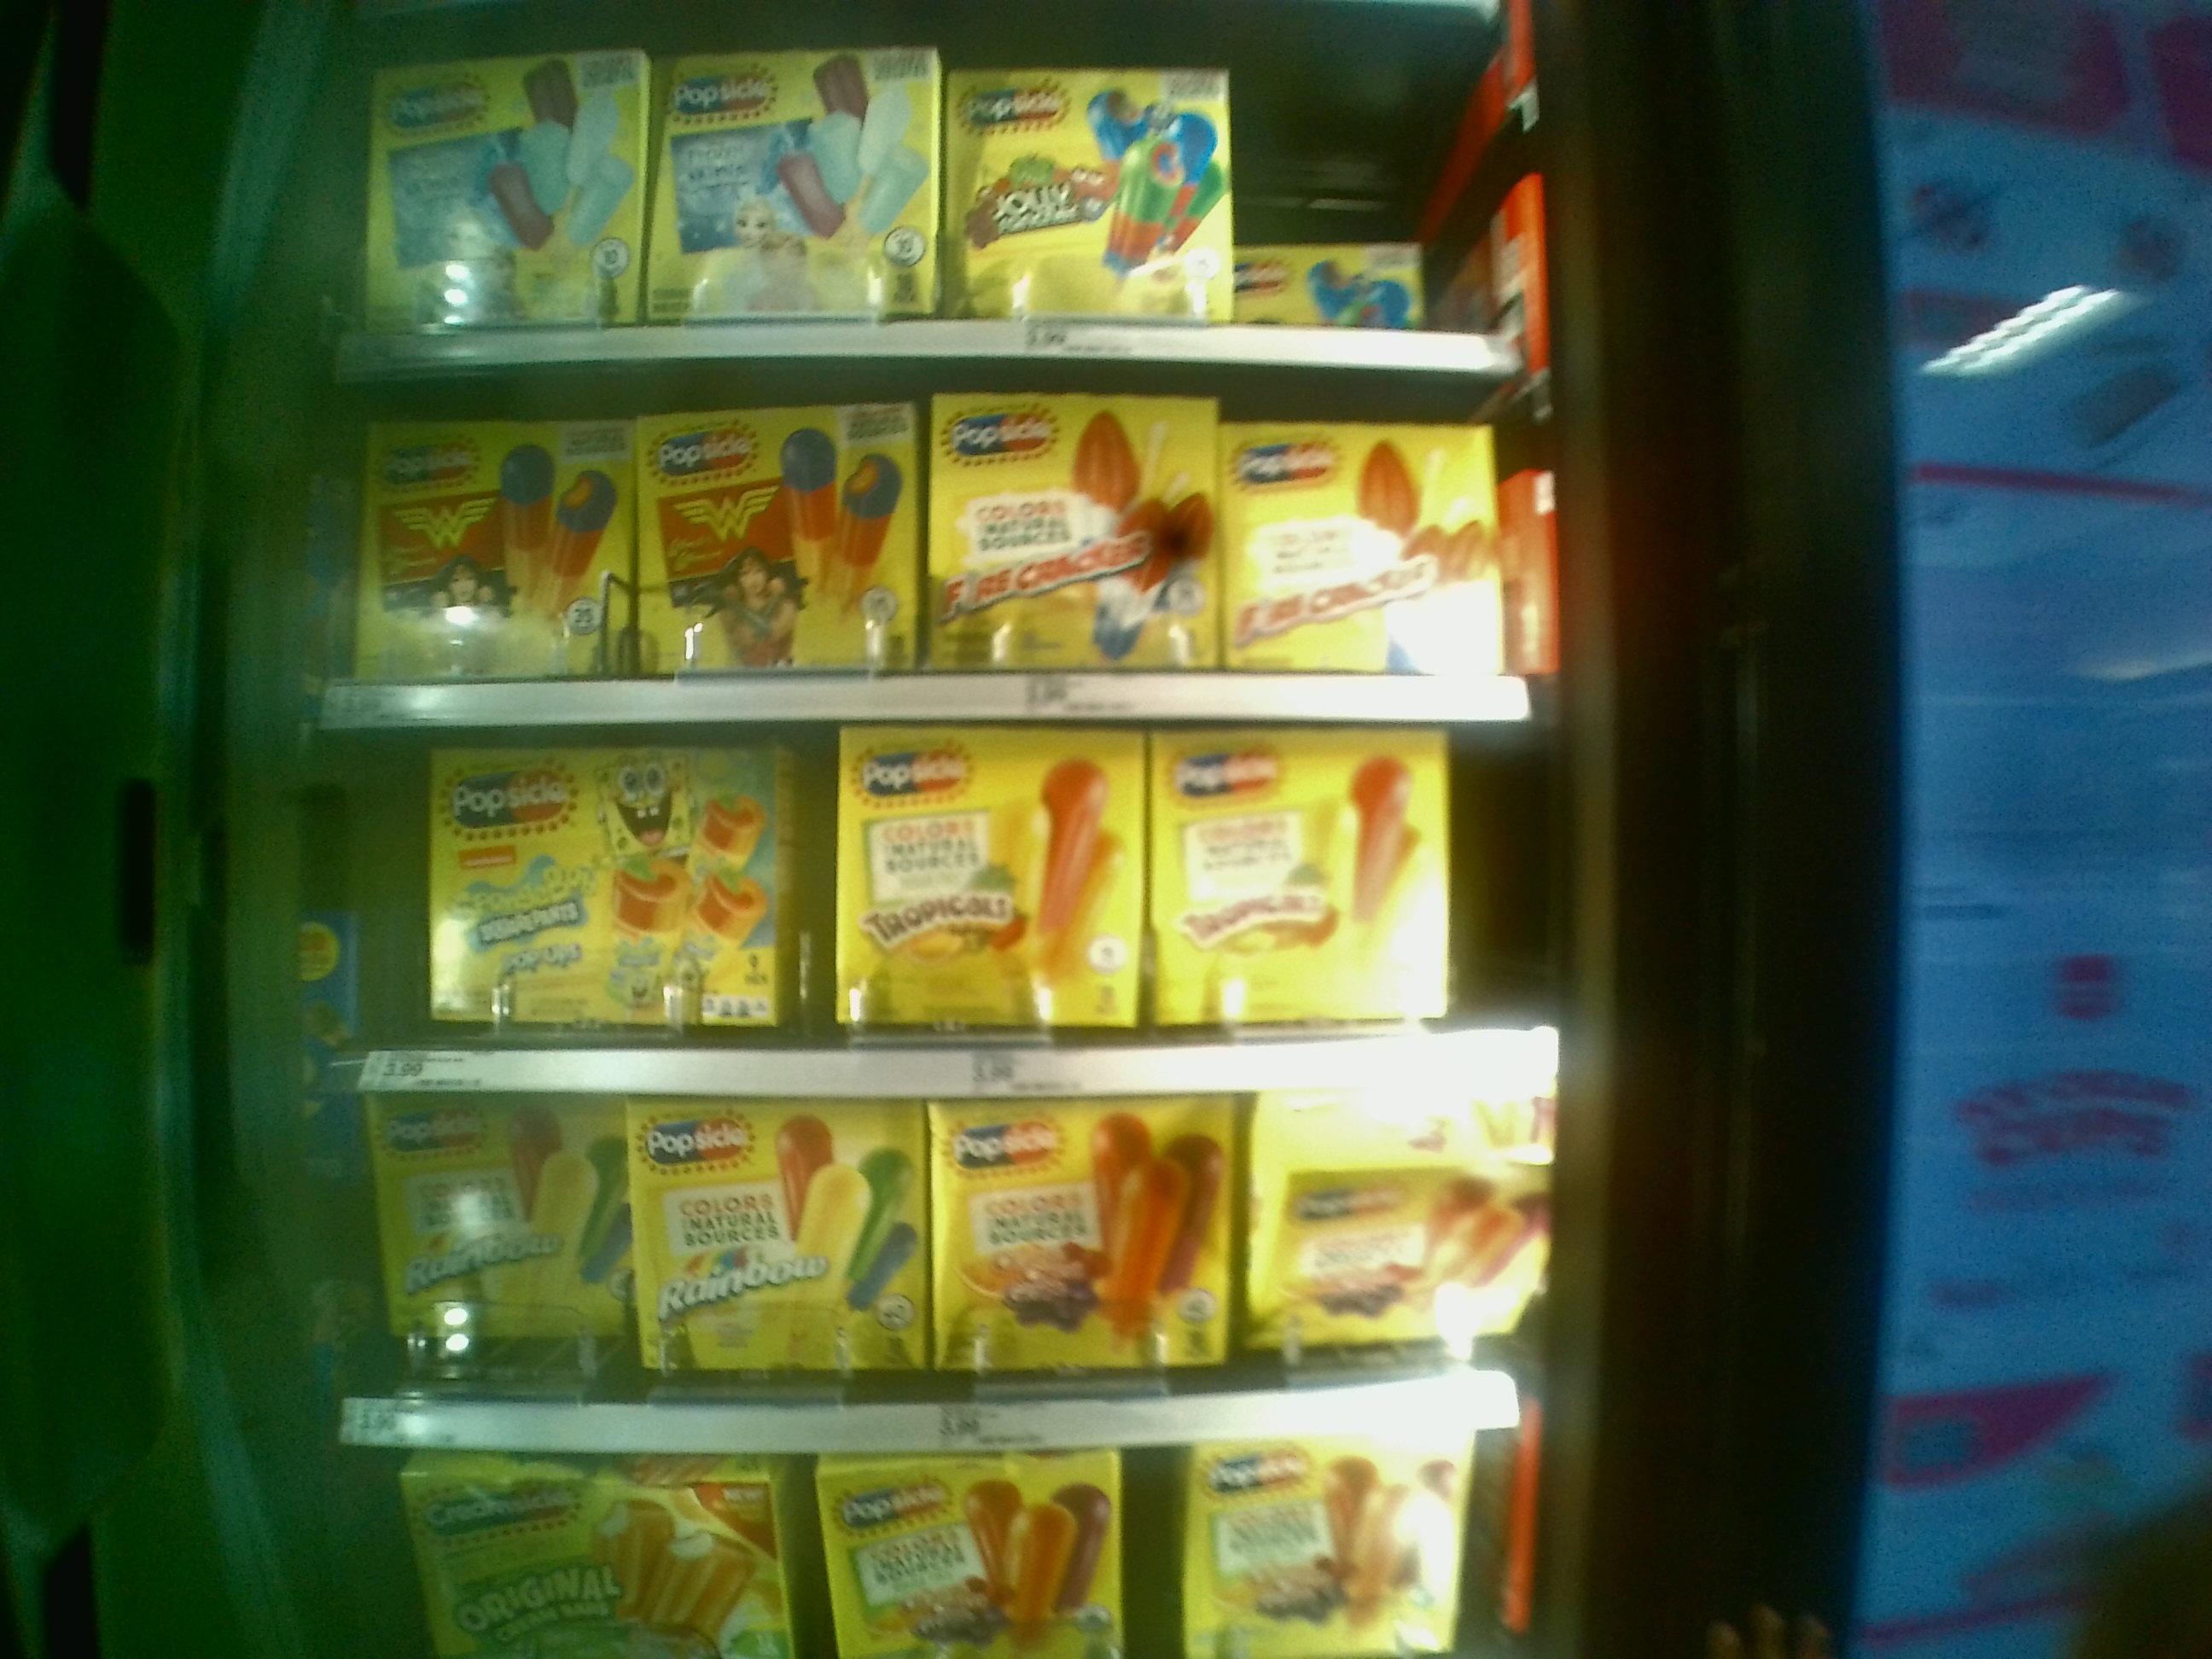shelf: (361, 723, 1569, 1096), (343, 352, 1555, 713), (364, 1103, 1543, 1452)
